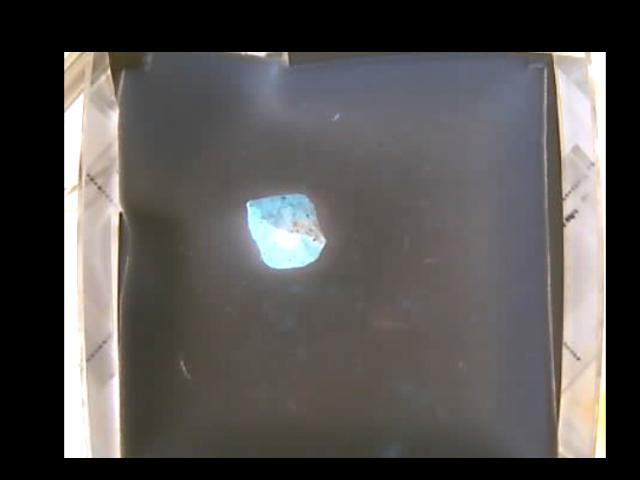Brisk: (248, 189, 325, 267)
